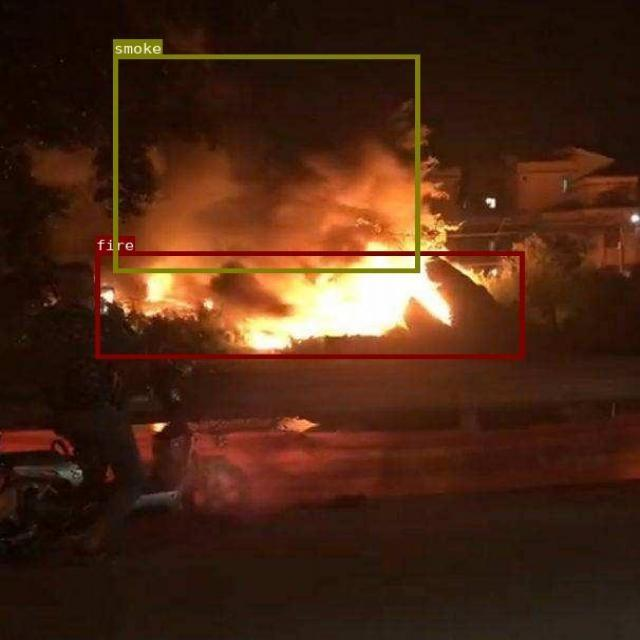fire: (94, 251, 523, 358)
smoke: (113, 54, 419, 272)
